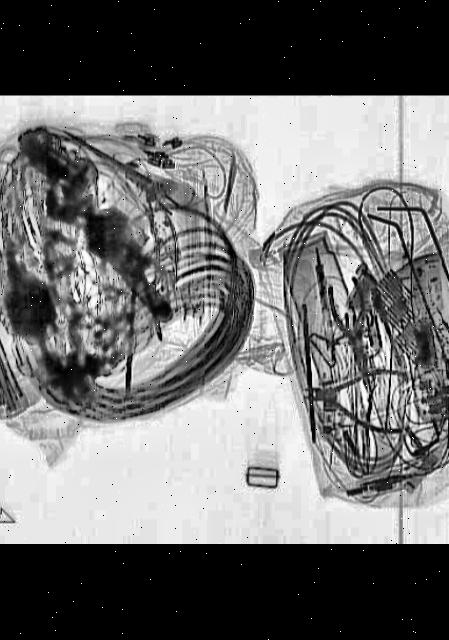Pliers: (299, 362, 412, 437), (324, 278, 390, 397)
